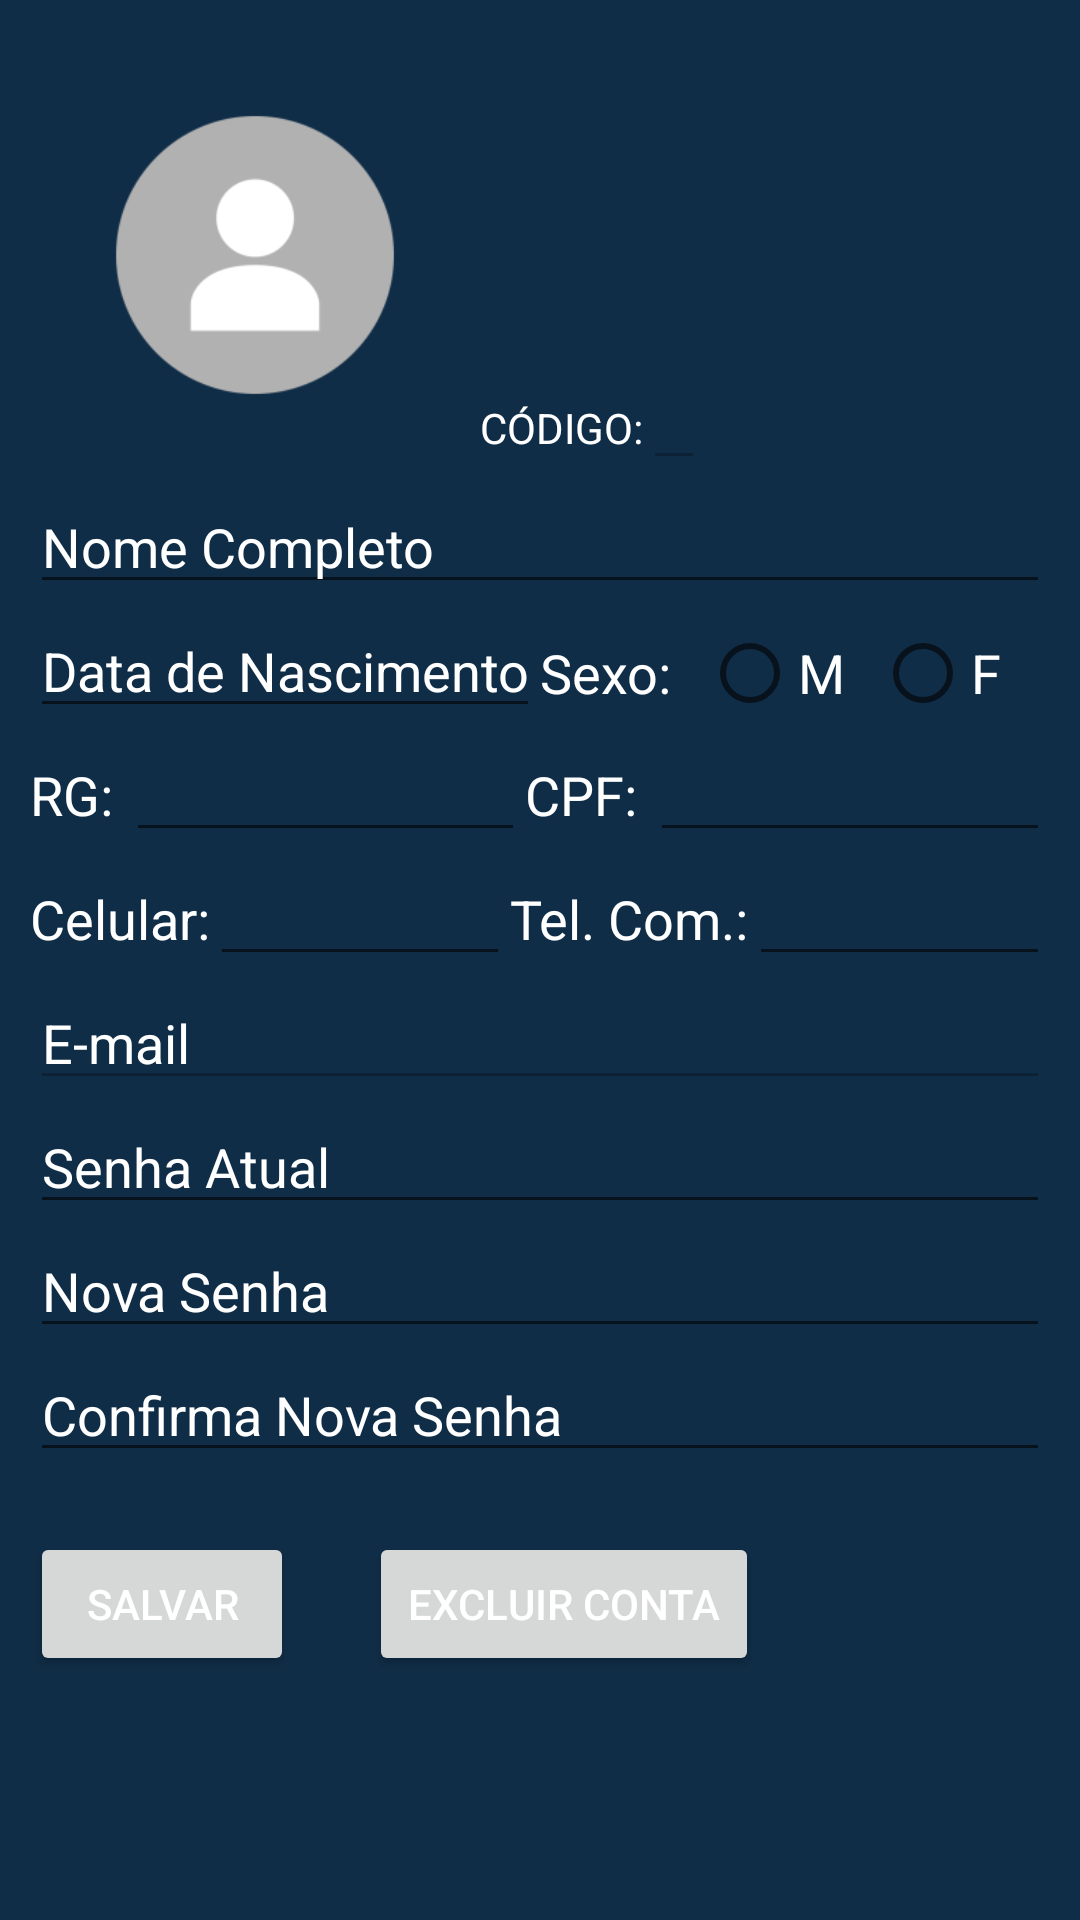

Screen size 1080px×1920px. Icon name, then its box in pixels as (x1, y1, x2, y2):
perfil: (116, 116, 394, 394)
